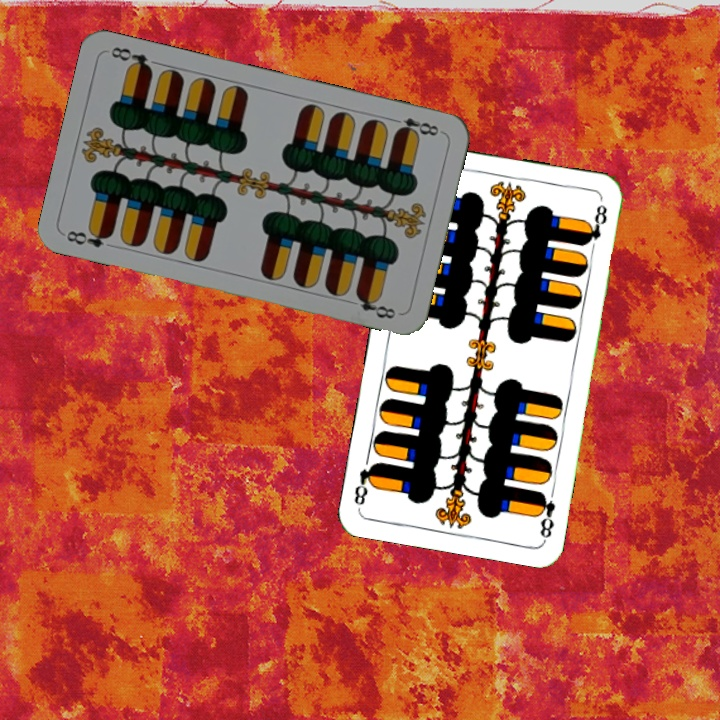E8: (386, 113, 442, 140), (62, 224, 115, 250), (533, 488, 558, 542)
